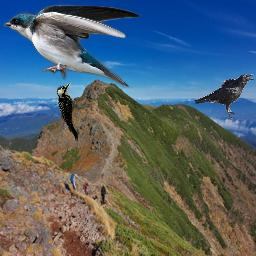Crow: (194, 74, 254, 121)
Swallow: (3, 3, 141, 88)
Woodpecker: (54, 81, 83, 146)
